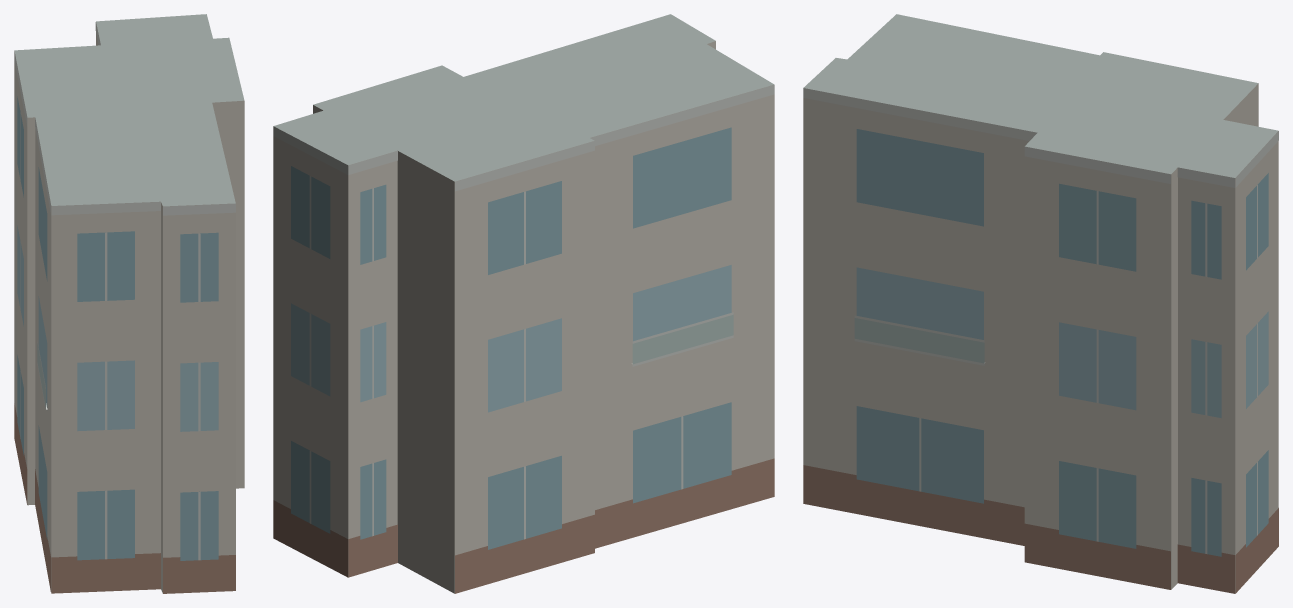
Rendered from survey-upis-32498175.glb.
The picture shows the model from 3 angles, left to right: view 1: azimuth 30°, elevation 25°; view 2: azimuth 150°, elevation 25°; view 3: azimuth 270°, elevation 25°; orthographic projection. The views are drawn at different scales.
Visible parts, largest first — view 1: survey-upis-32498175.tmp; view 2: survey-upis-32498175.tmp; view 3: survey-upis-32498175.tmp.
Part boxes in pixels (x1,y1,x2,y2): survey-upis-32498175.tmp: [14, 14, 244, 593]; survey-upis-32498175.tmp: [273, 14, 774, 593]; survey-upis-32498175.tmp: [803, 14, 1278, 593].
Size of the model in its own units: 8.64 by 10.2 by 10.58.
